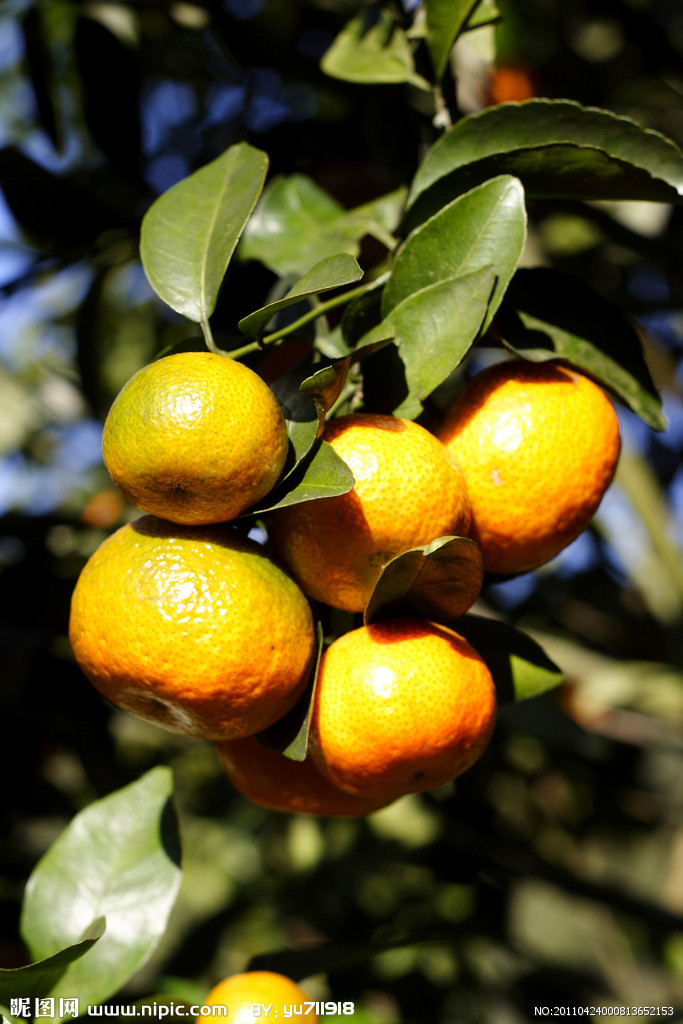orange: (72, 516, 316, 735), (428, 351, 619, 583), (292, 410, 472, 625), (104, 352, 288, 526), (314, 623, 493, 798), (200, 967, 317, 1024)
